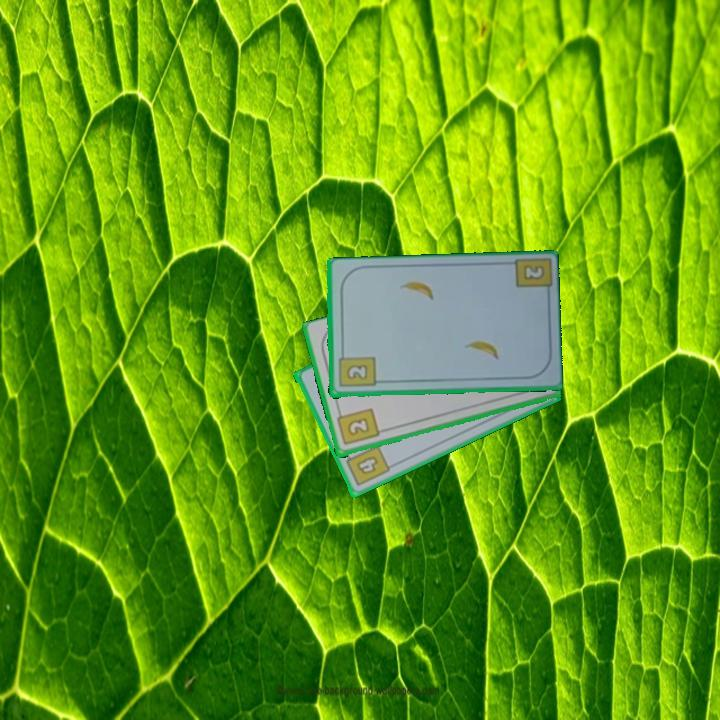2b: (333, 405, 381, 448), (508, 255, 551, 300), (335, 348, 378, 390)
4b: (341, 442, 392, 489)
